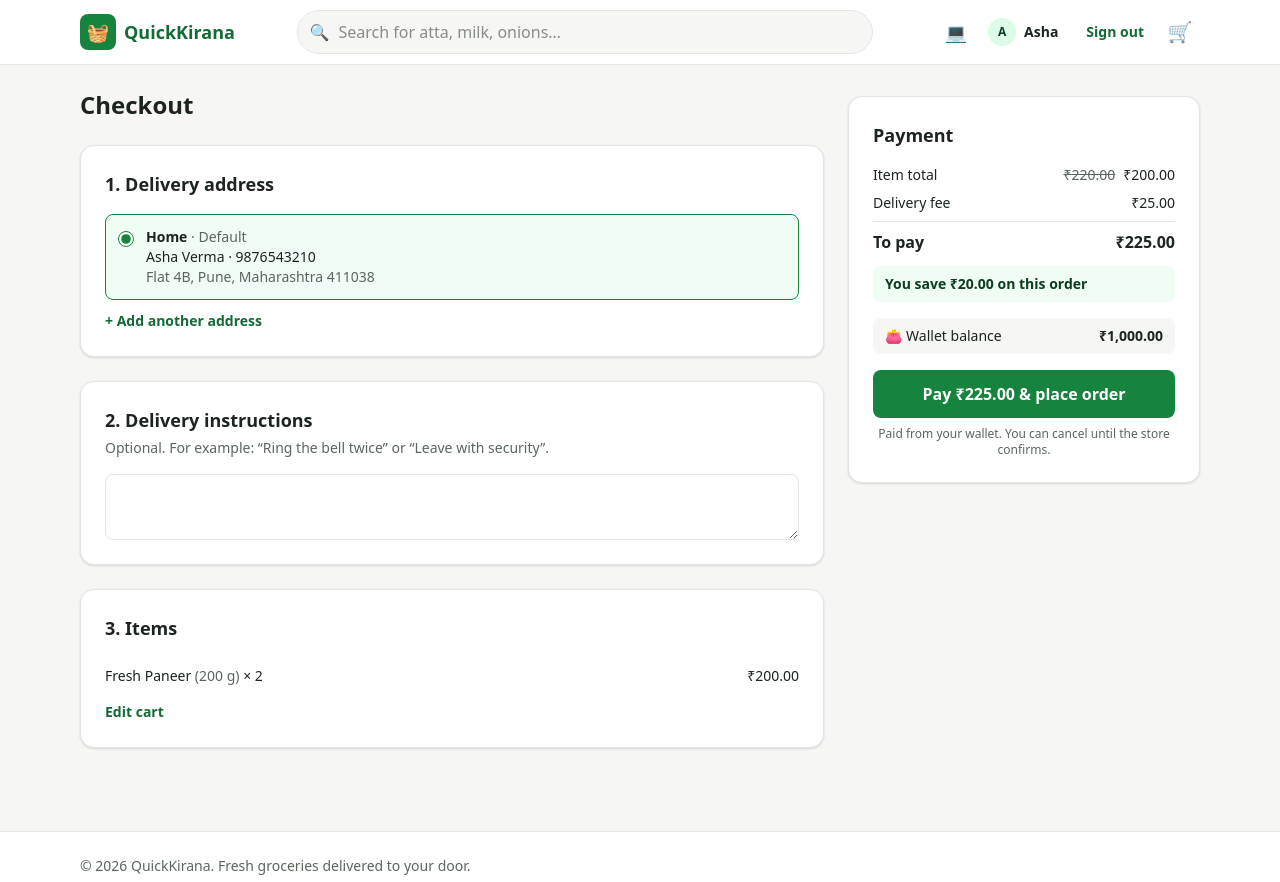
Test: checkout › places the order with the total the customer saw and shows the confirmation
Expected: the radio button is checked, [118,231,134,247]
Step 1. Type "Ring twice" into the text box named "Delivery instructions" → (452, 507), box [105,474,799,540]
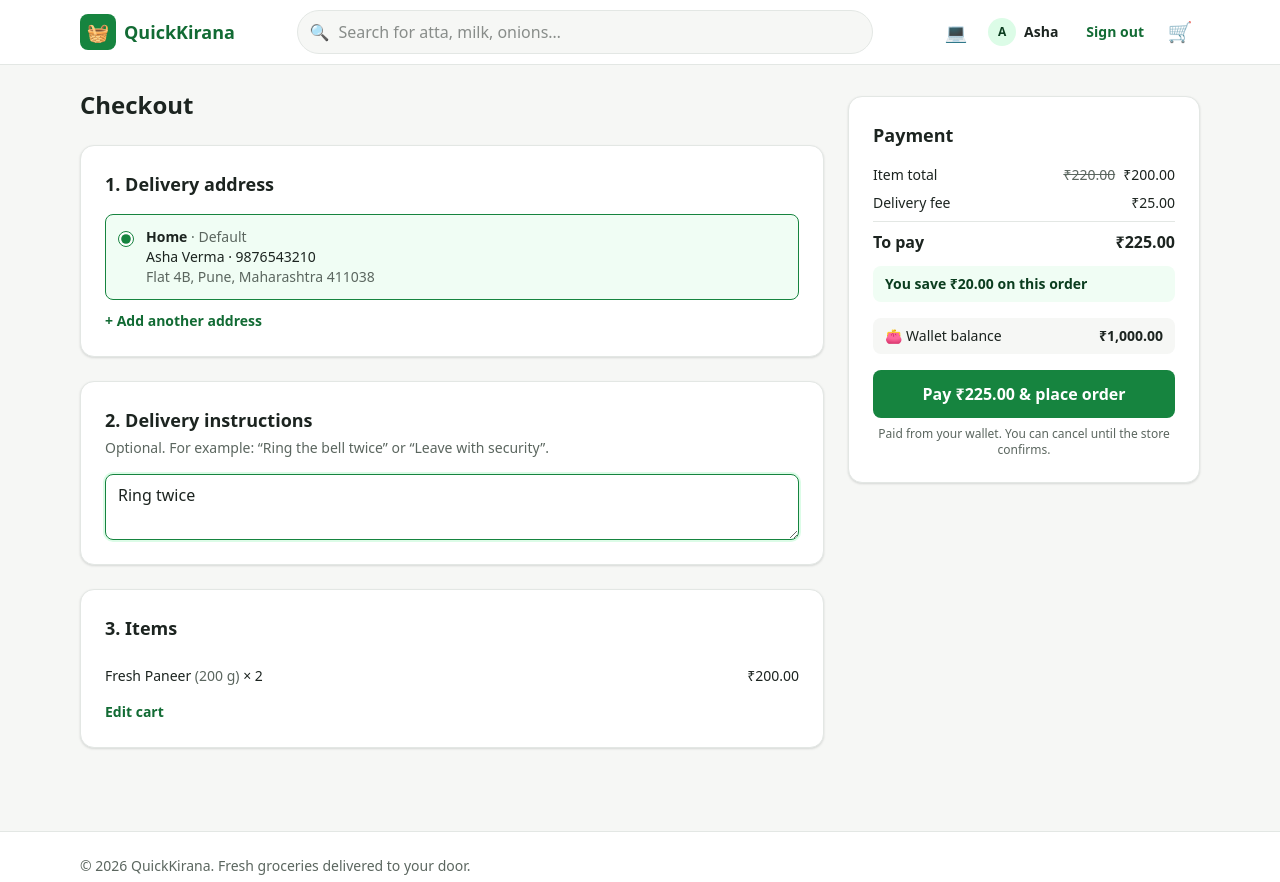
Step 2. Click the button "Pay ₹225.00 & place order" → (1024, 394), box [873,370,1175,418]
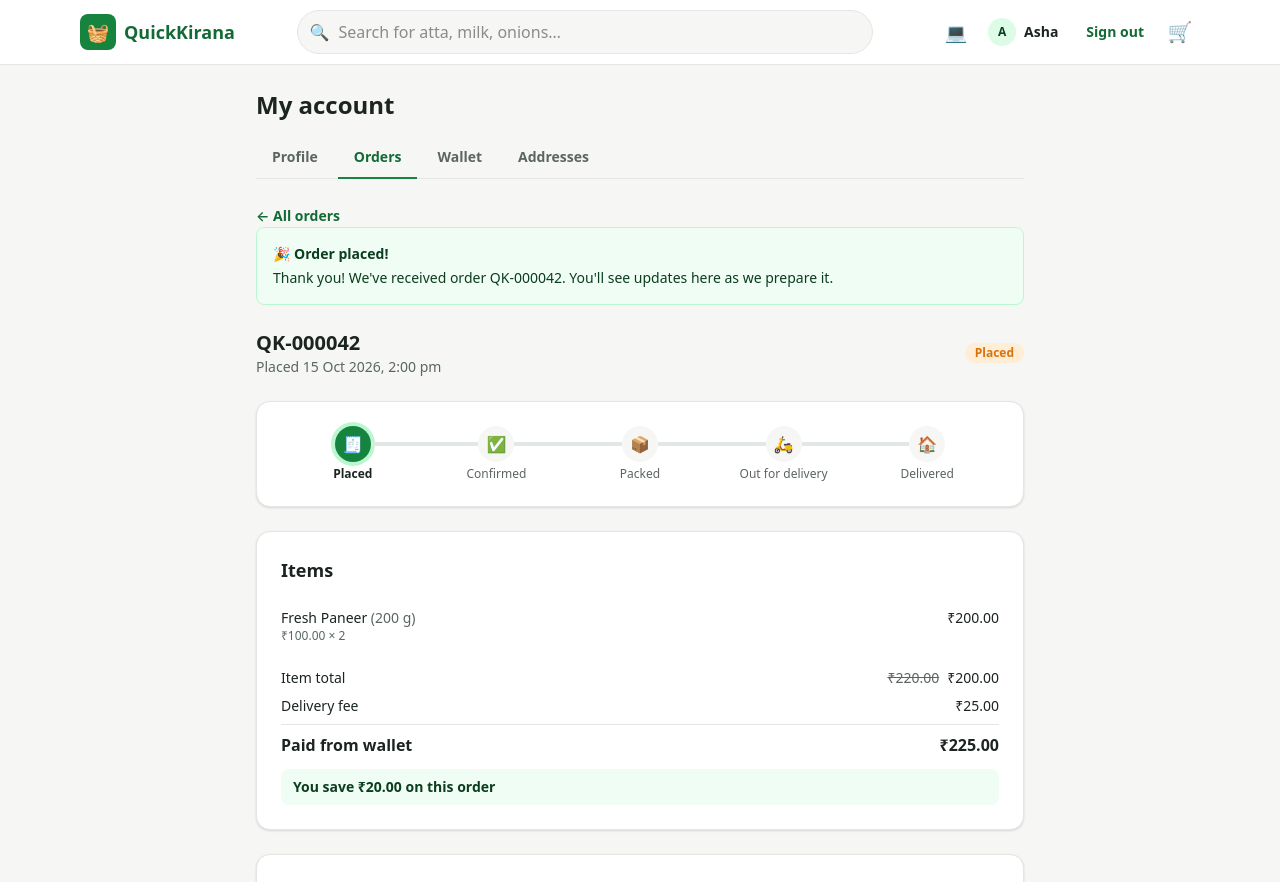
Result: the text "🎉 Order placed!" is shown at [273,244,388,263]
